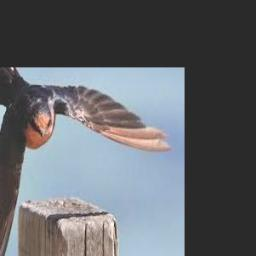Swallow: (0, 67, 171, 256)
